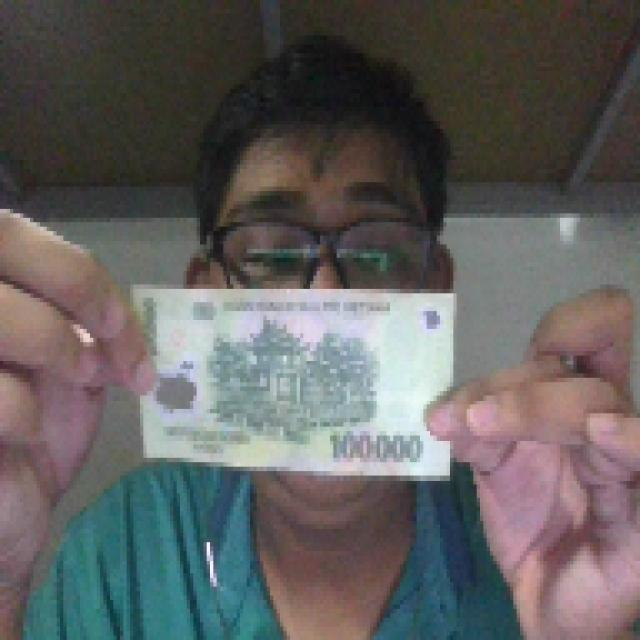100 000 VND: (127, 274, 460, 482)
